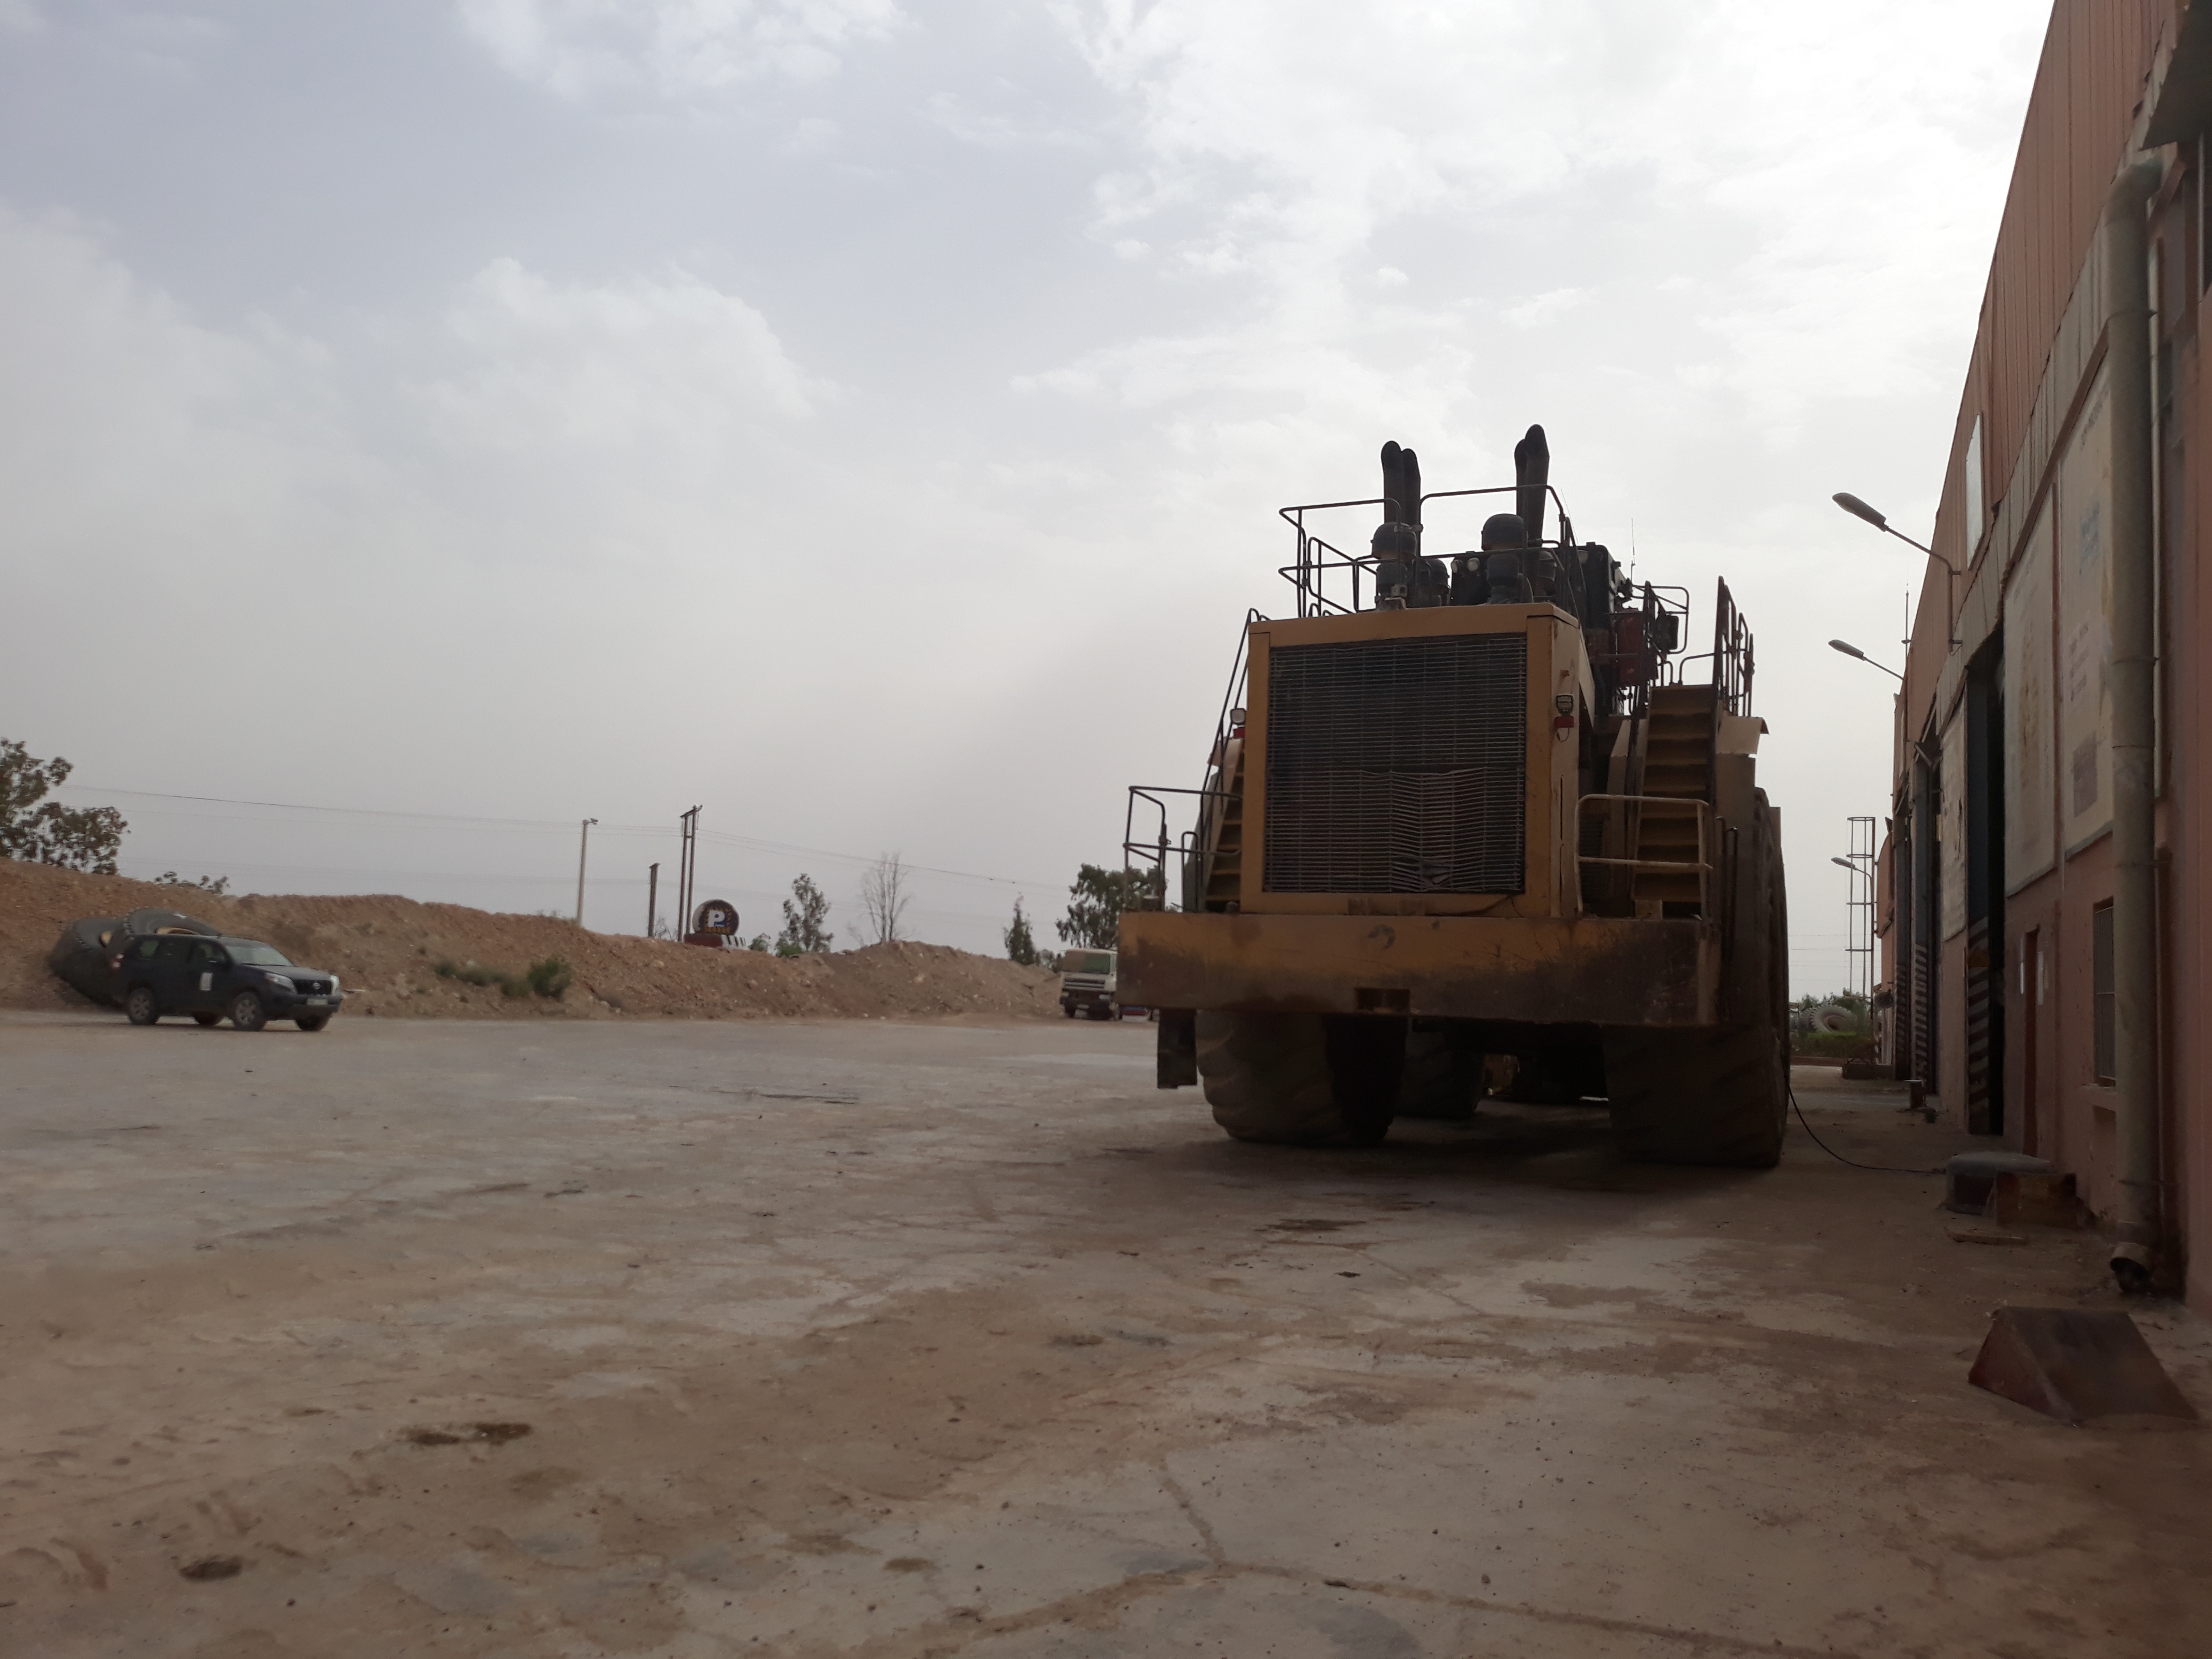car: (103, 917, 359, 1053)
chargeuse: (1157, 420, 1813, 1192)
